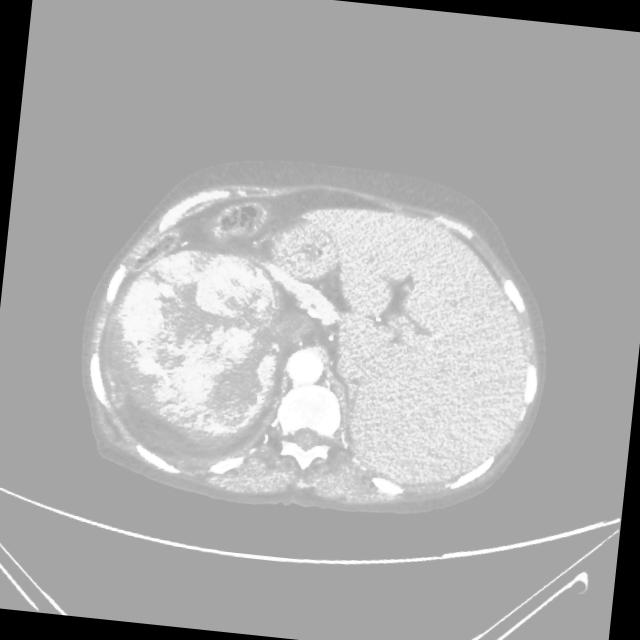TUMOR: (67, 268, 289, 477)
